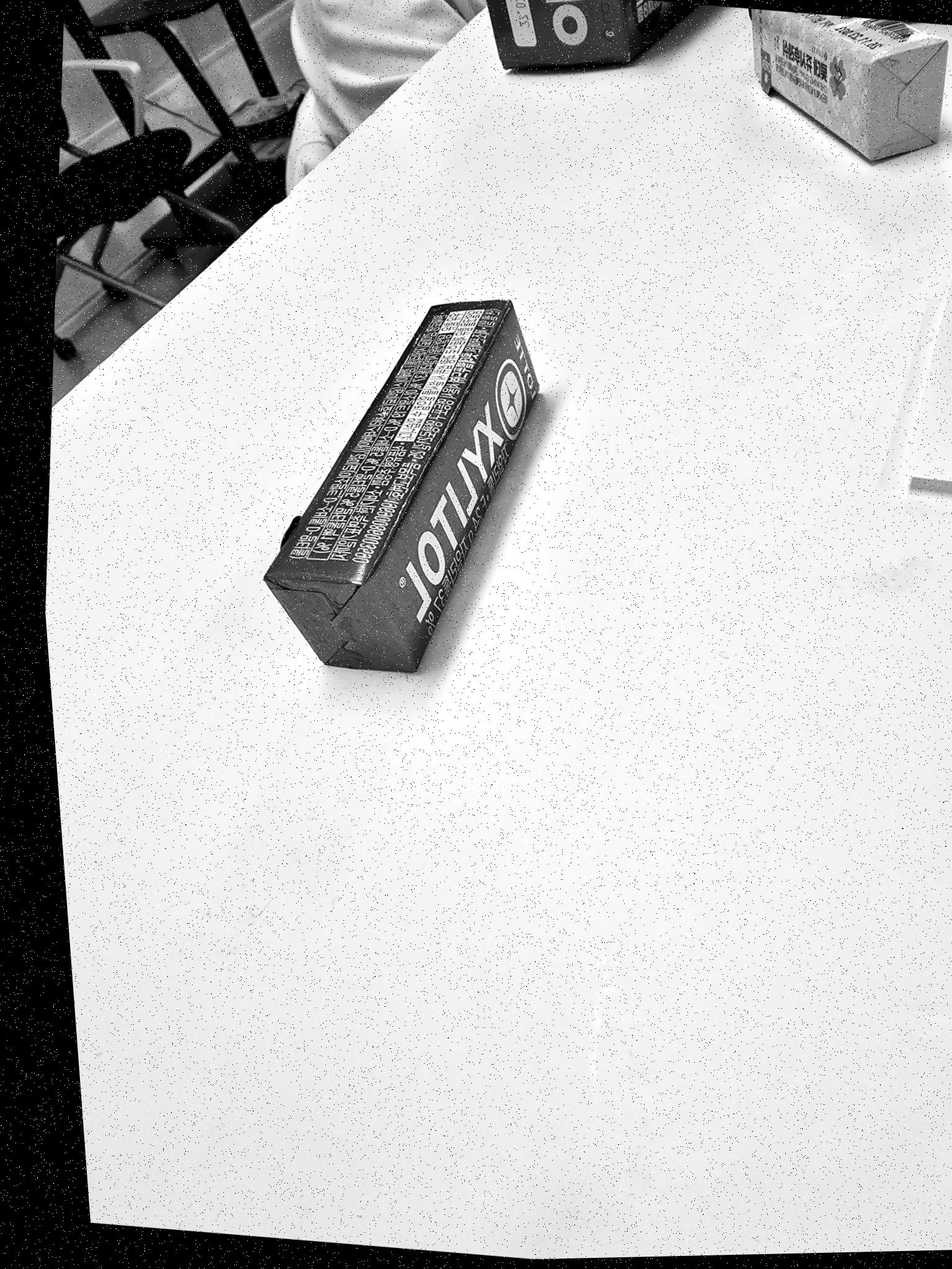gum_green: (265, 300, 538, 671)
